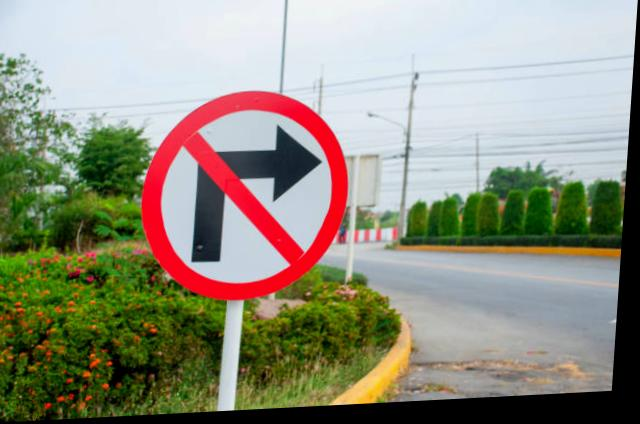not_turn_right: (138, 79, 362, 312)
